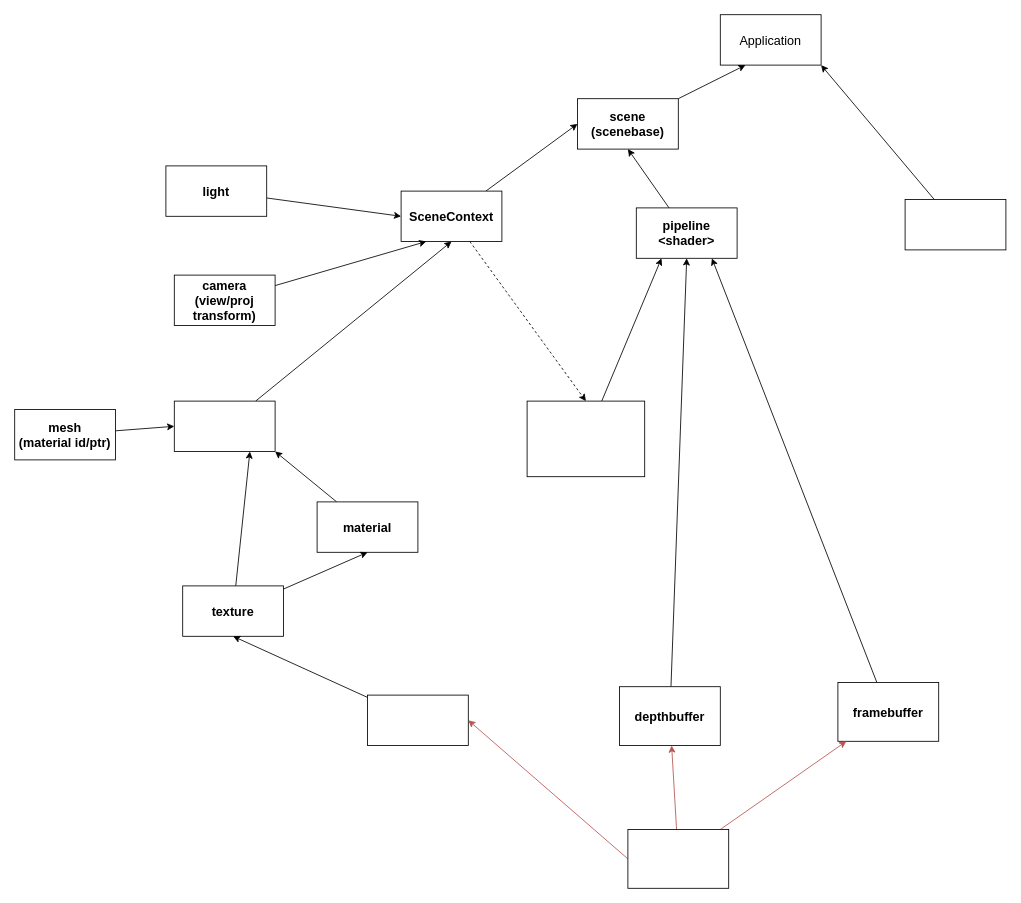
Image size: 1021x903. Some labels were removed from this diagram. Each missing label, with the centre of its shape:
"buffer" goes at point 678,858.
"image" goes at point 417,720.
"model (model transform)" goes at point 224,426.
"shader (vs+ps)" goes at point 585,438.
"window" goes at point 955,224.
